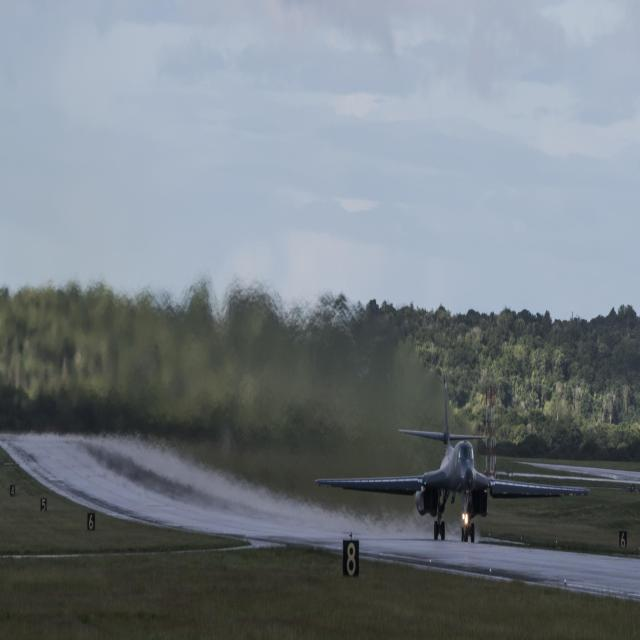MIL_Plane: (315, 406, 590, 510)
